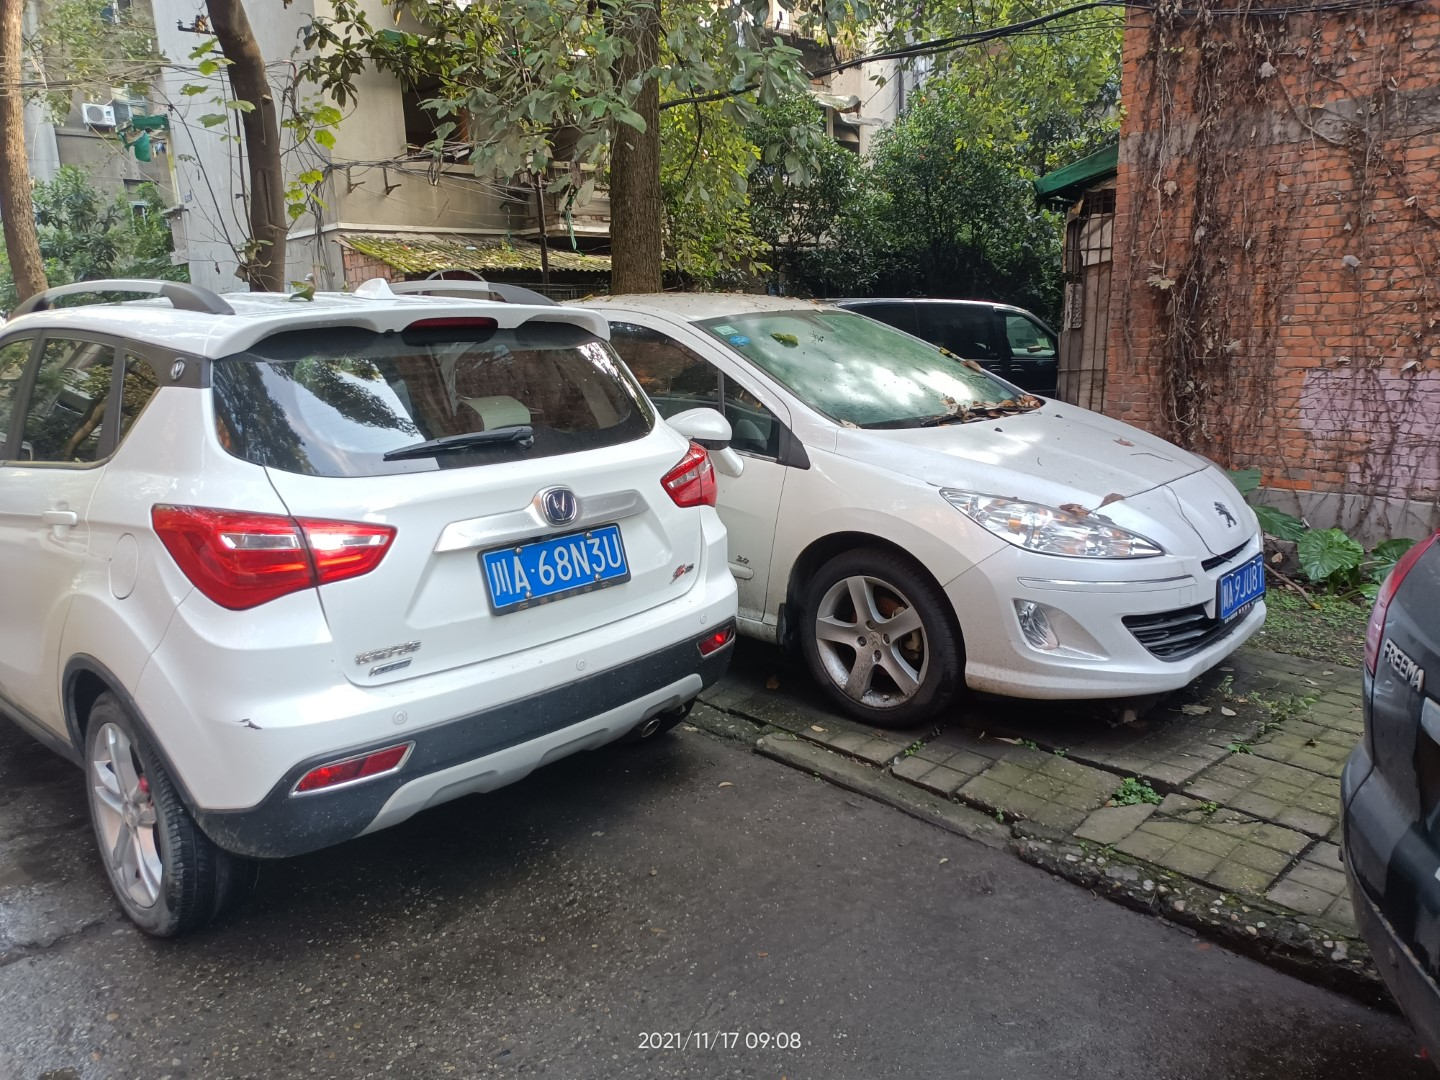plate: (480, 522, 628, 607), (1220, 556, 1267, 621)
